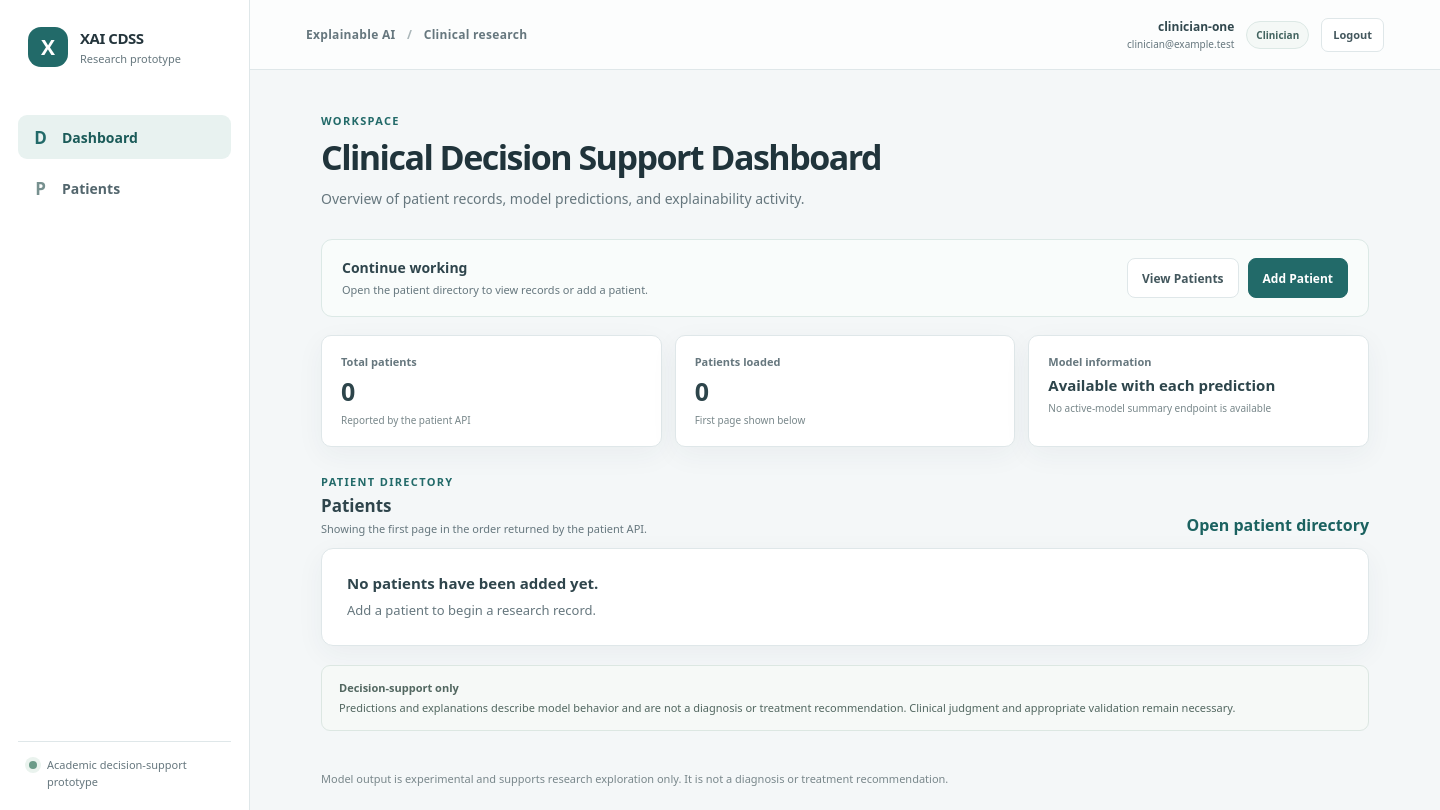
Test case: authentication and protected routes › logs out, clears storage, and redirects to login
This screenshot has width=1440, height=810.
Expected: the heading "Clinical Decision Support Dashboard" is shown, [321, 134, 881, 180]
Click the button "Logout" at (1353, 34), box [1321, 18, 1384, 52]
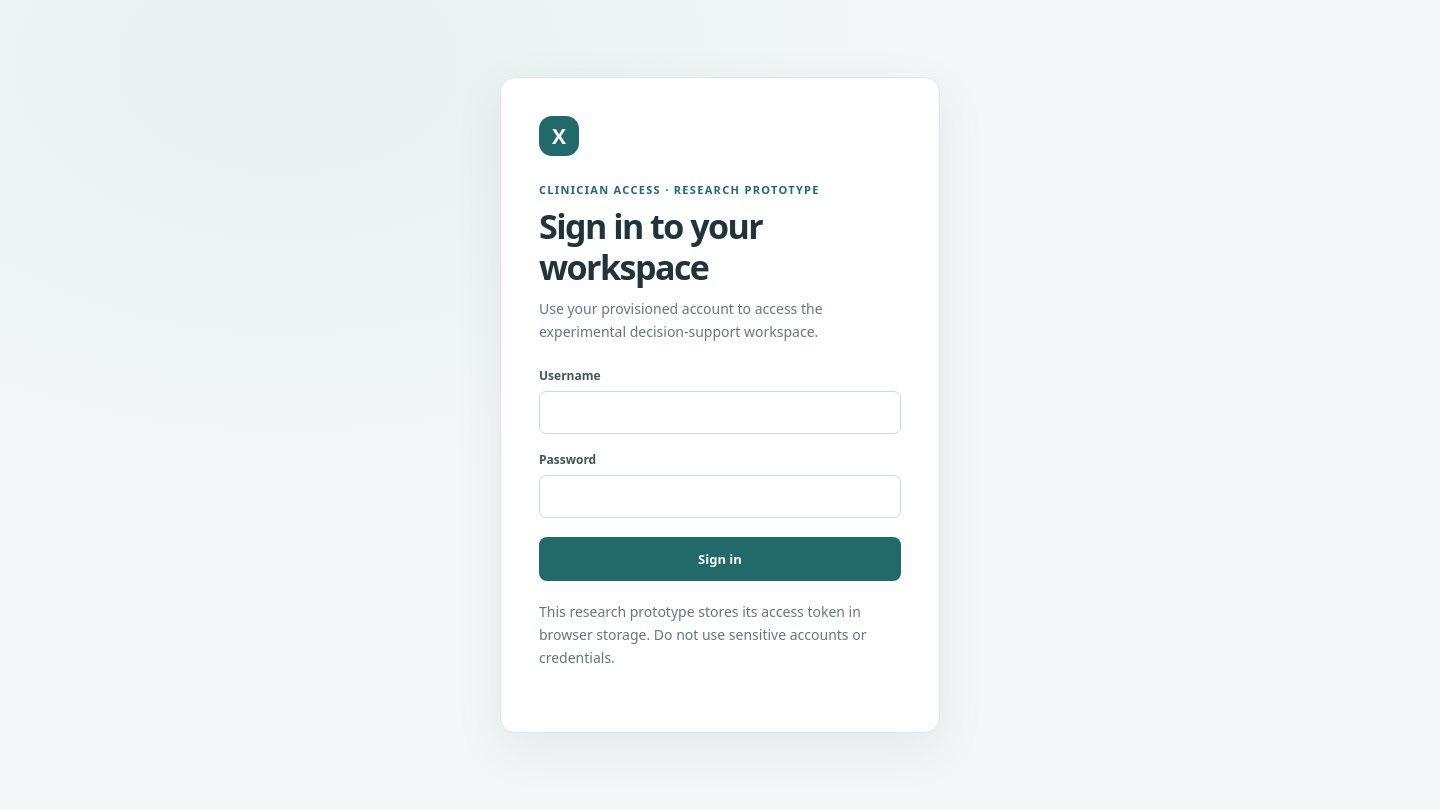
Expected: the heading "Sign in to your workspace" is shown, [539, 204, 762, 290]
